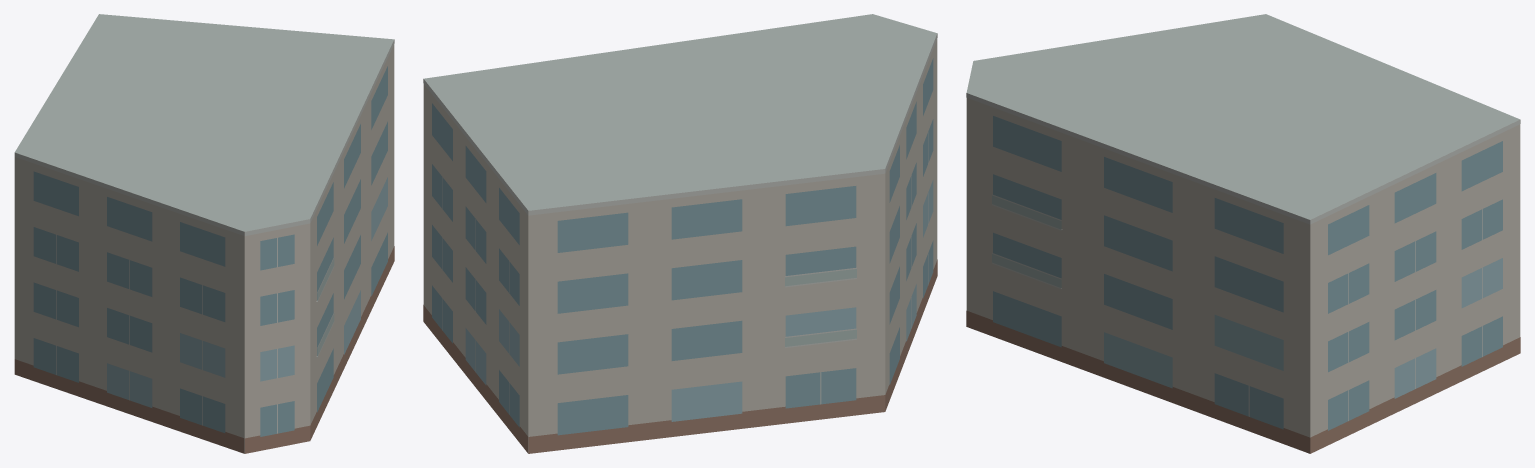
Rendered from survey-upis-32523437.glb.
3 views of the same model, side by side, from view 1: azimuth 30°, elevation 25°; view 2: azimuth 150°, elevation 25°; view 3: azimuth 270°, elevation 25° (orthographic). The views are drawn at different scales.
Parts seen in each view (by area): view 1: survey-upis-32523437.tmp; view 2: survey-upis-32523437.tmp; view 3: survey-upis-32523437.tmp.
Part boxes in pixels (bbox=[...]): survey-upis-32523437.tmp: bbox=[14, 14, 394, 453]; survey-upis-32523437.tmp: bbox=[423, 14, 937, 453]; survey-upis-32523437.tmp: bbox=[966, 14, 1520, 453].
Size of the model in its own units: 23.43 by 12.4 by 26.62.
